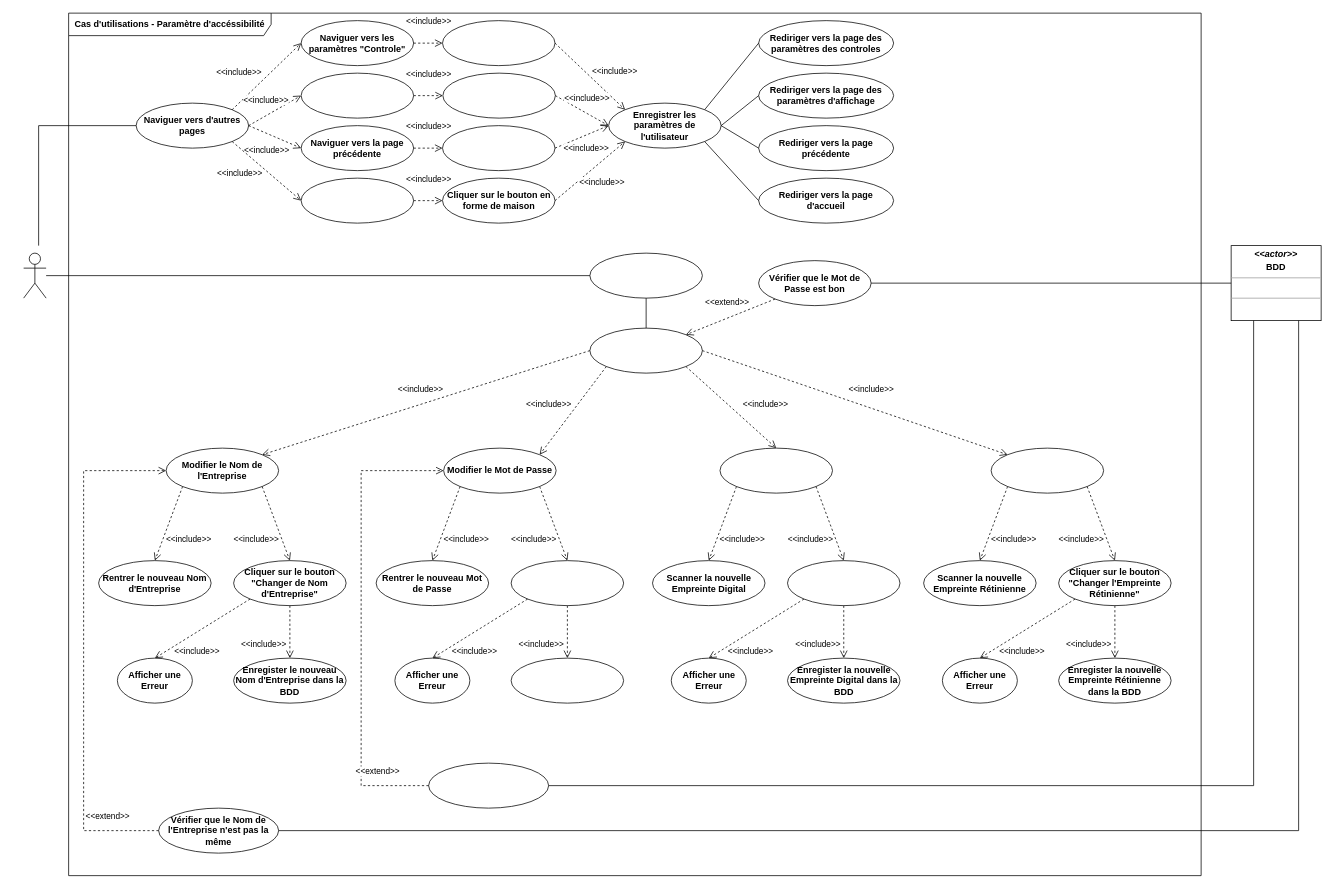
Image size: 1334x889. Some labels were removed from this diagram. The centre of each missing label's shape, as x and y in pixels:
Cliquer sur le bouton "Affichage": the point at 498,95
Cliquer sur le bouton "Changer l'Empreinte Digital": the point at 843,583
Cliquer sur le bouton "Changer le Mot de Passe": the point at 567,583
Cliquer sur le bouton "Controle": the point at 498,43
Cliquer sur le bouton en forme de flèche: the point at 498,148
Enregister le nouveau Mot de Passe dans la BDD: the point at 567,680
Modifier l'Empreinte Digital: the point at 775,470
Modifier l'Empreinte Rétinienne: the point at 1047,470
Modifier une Information: the point at 645,350
Naviguer vers la page d'accueil: the point at 357,200
Naviguer vers les paramètres "Affichage": the point at 357,95
Rentrer son Mot de Passe: the point at 645,275
Utilisateur: the point at 34,275
Vérifier que le Mot de Passe n'est pas le même: the point at 488,785
